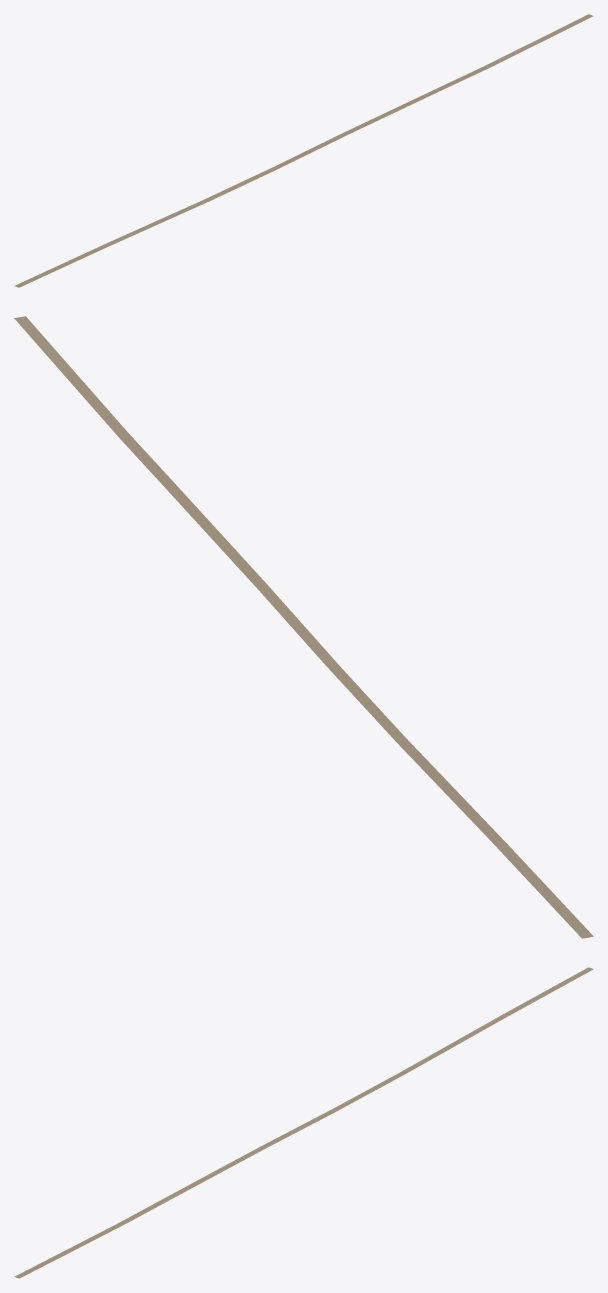
The model's file is farm_7_19_track.glb.
3 views of the same model, one above another, from view 1: azimuth 90°, elevation 25°; view 2: azimuth 150°, elevation 25°; view 3: azimuth 270°, elevation 25° (orthographic). The views are drawn at different scales.
Visible parts, largest first — view 1: geometry_0; view 2: geometry_0; view 3: geometry_0.
Part boxes in pixels (box(x1,y1,x2,y2)): geometry_0: box(14, 14, 593, 287); geometry_0: box(14, 316, 593, 938); geometry_0: box(14, 967, 593, 1278).
Bounding box in the file's own units: 330 × 9.98 × 277.
